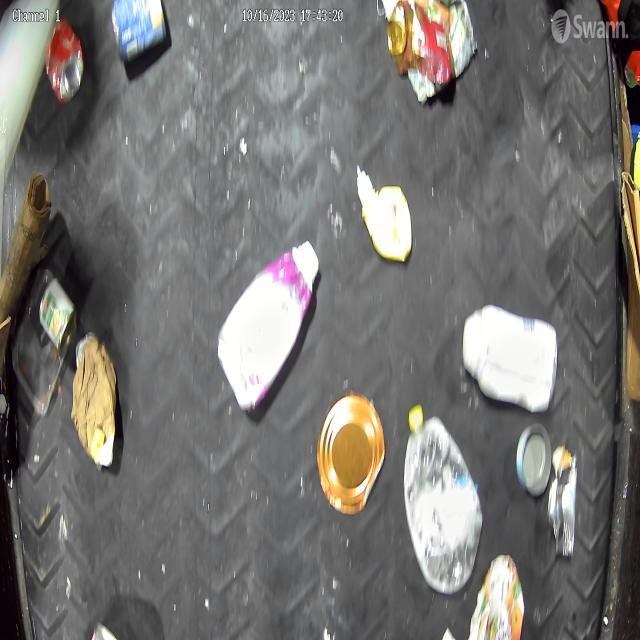can: (105, 0, 173, 71), (42, 17, 86, 106), (546, 444, 578, 560), (514, 416, 555, 506)
plastic_bottle: (405, 408, 481, 597)
